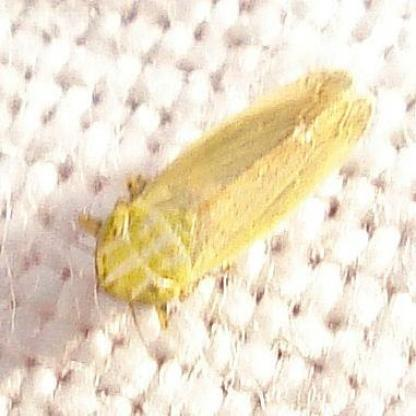green-leafhopper: (98, 75, 368, 306)
